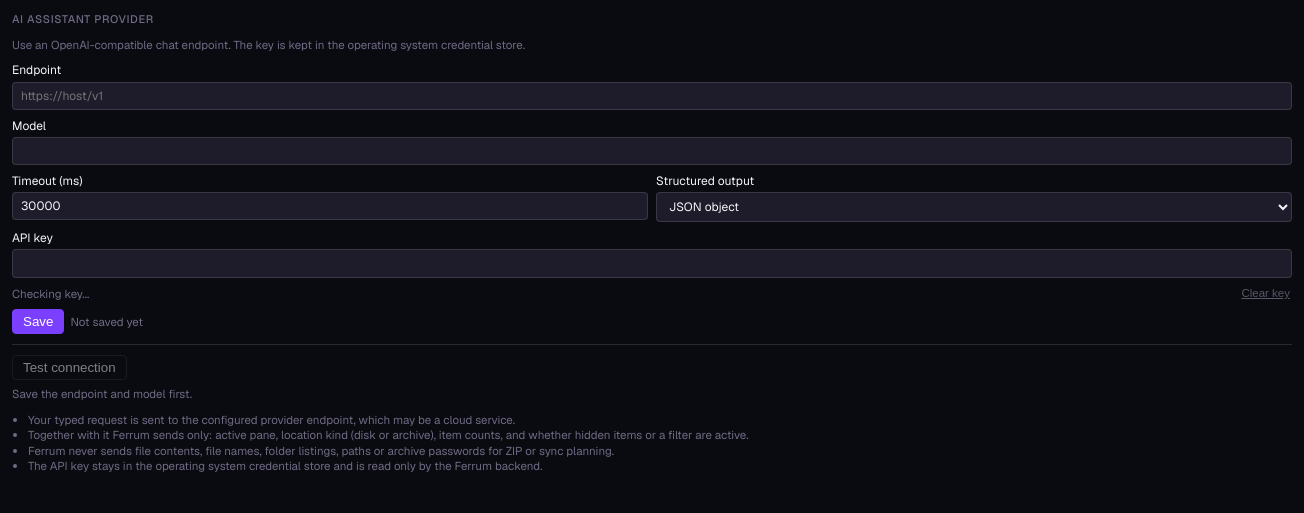
Test: AiSettings (FER-412, order FER-429) › rejects an unsafe endpoint, stores nothing and does not send the key
Type "http://example.com/v1" into the field labelled "Endpoint" at [652, 96], box [12,82,1292,110]
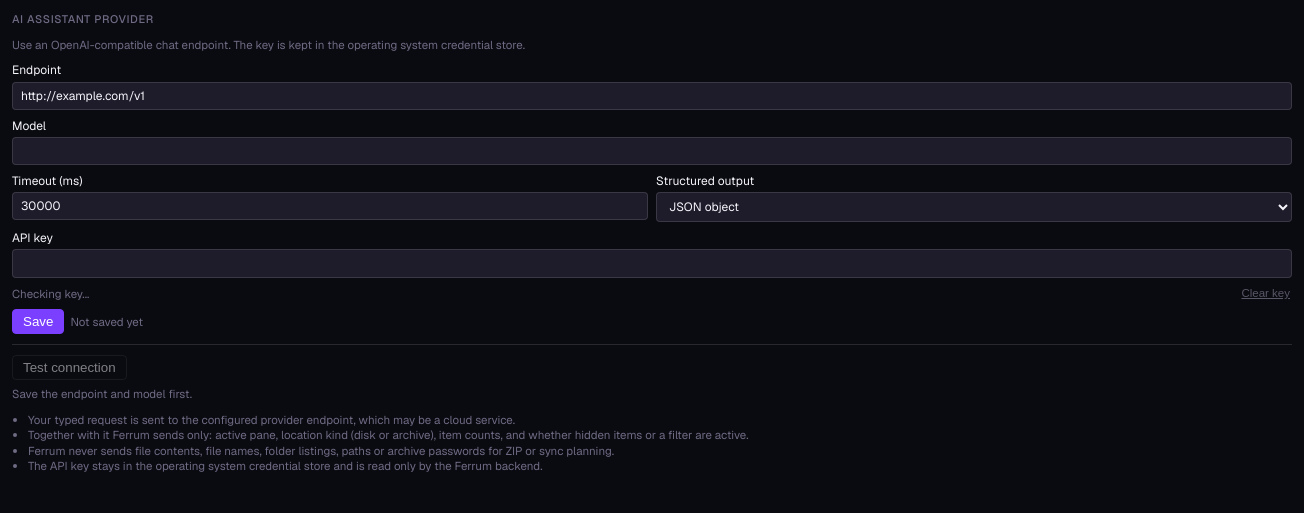
Type "glm-4.6" into the field labelled "Model" at [652, 151], box [12,137,1292,165]
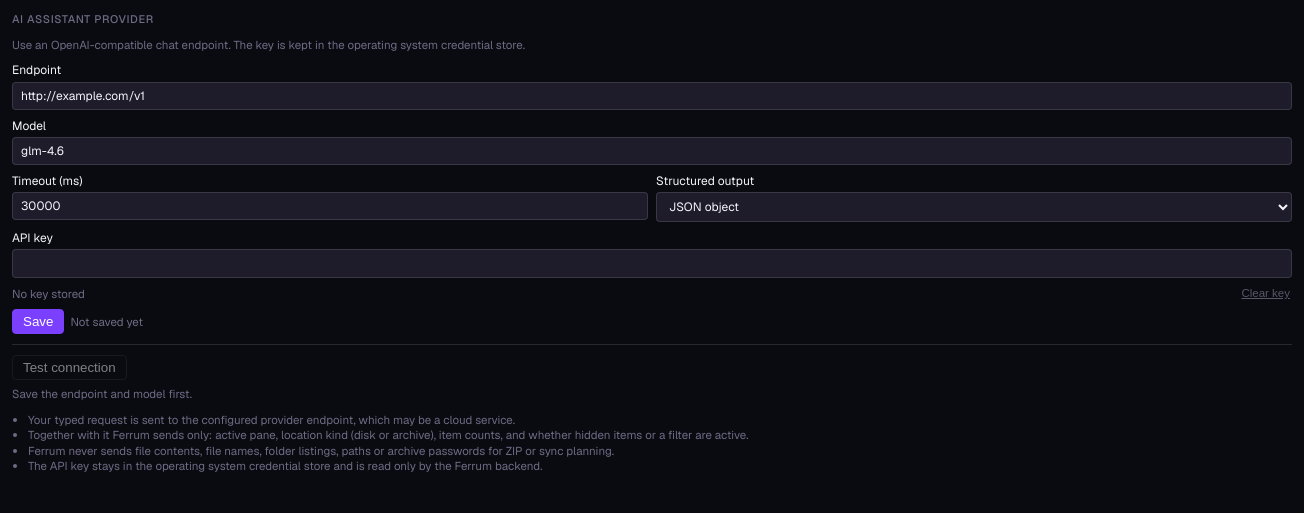
Type "sk-test-value-abcdef123456" into the password field labelled "API key" at [652, 264], box [12,250,1292,278]
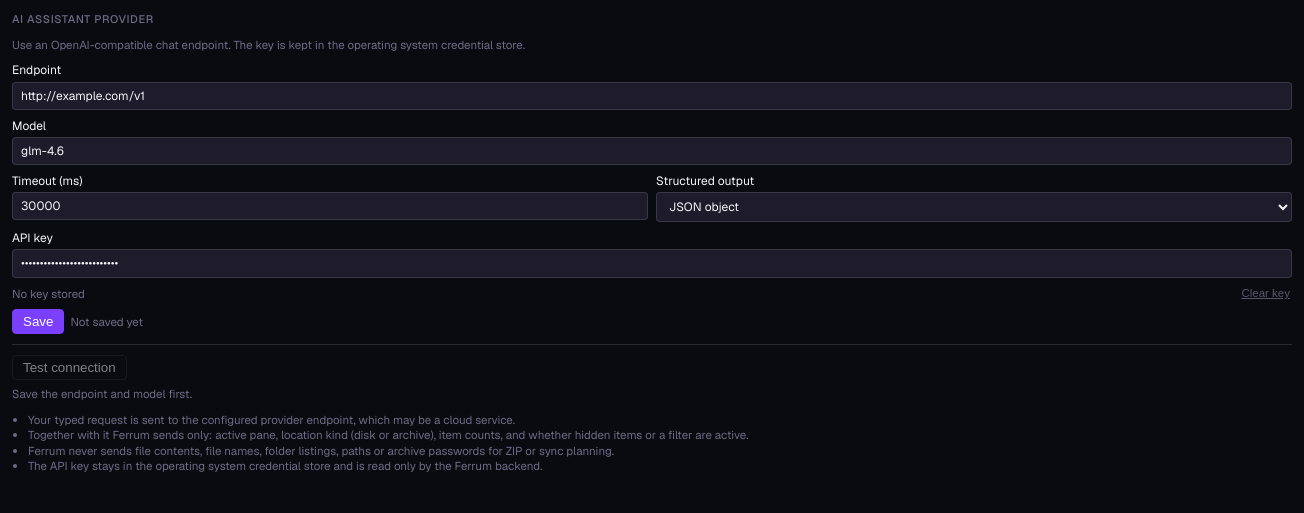
Click the button "Save" at [38, 322], box [12,309,64,334]
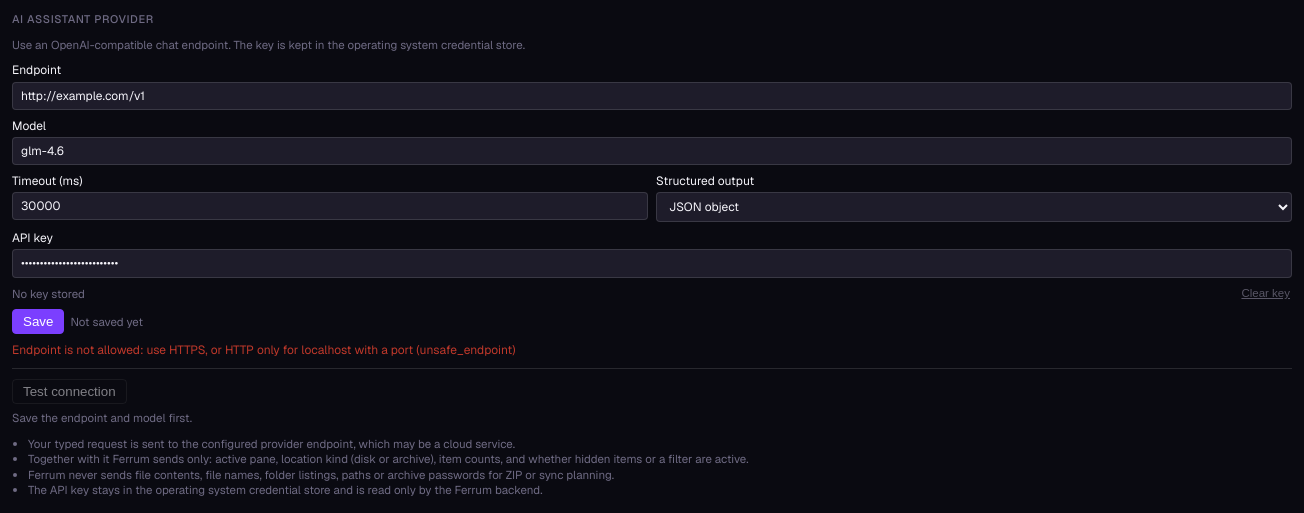
Result: the message named "Save result" shows "Endpoint" at [12,342,516,358]
